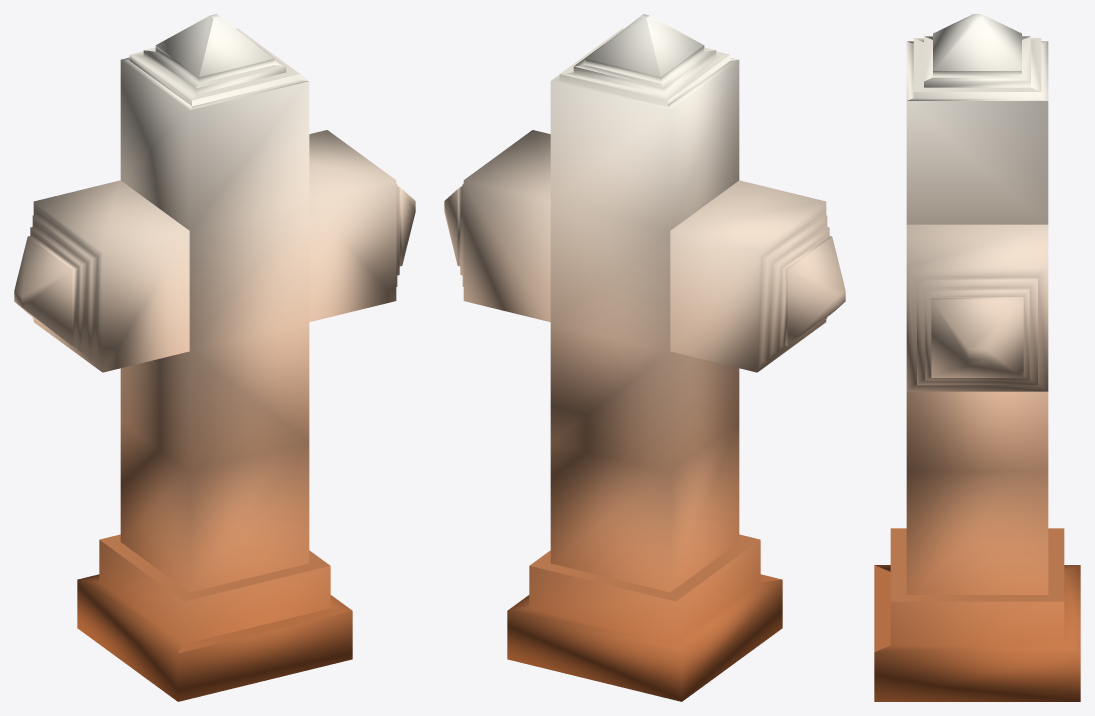
Rendered from Croix.fbx.
3 views of the same model, side by side, from view 1: azimuth 30°, elevation 25°; view 2: azimuth 150°, elevation 25°; view 3: azimuth 270°, elevation 25° (orthographic). The views are drawn at different scales.
Visible parts, largest first — view 1: Cube; view 2: Cube; view 3: Cube.
Part boxes in pixels (x1,y1,x2,y2): Cube: (14, 14, 415, 701); Cube: (444, 14, 845, 701); Cube: (874, 14, 1080, 701).
Size of the model in its own units: 192 by 293 by 85.36.
1 material, 1 textured.
